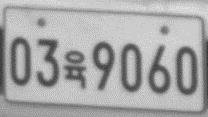0: (119, 42, 142, 92), (9, 36, 31, 87), (175, 45, 197, 95)
3: (36, 38, 60, 88)
6: (147, 43, 171, 94)
9: (91, 41, 115, 91)
육: (62, 49, 87, 89)
